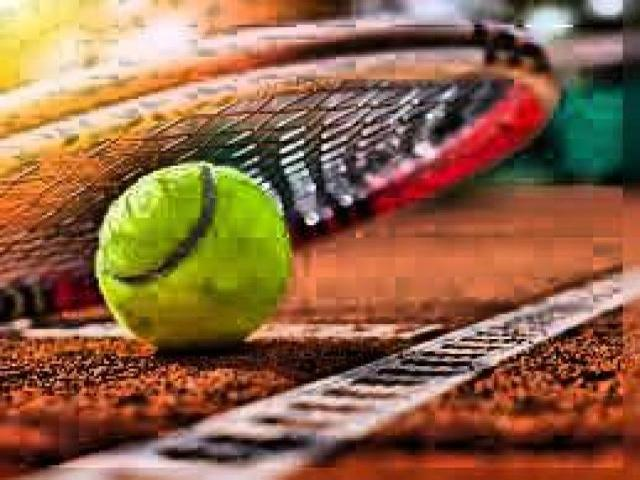tennis-ball: (94, 166, 290, 353)
